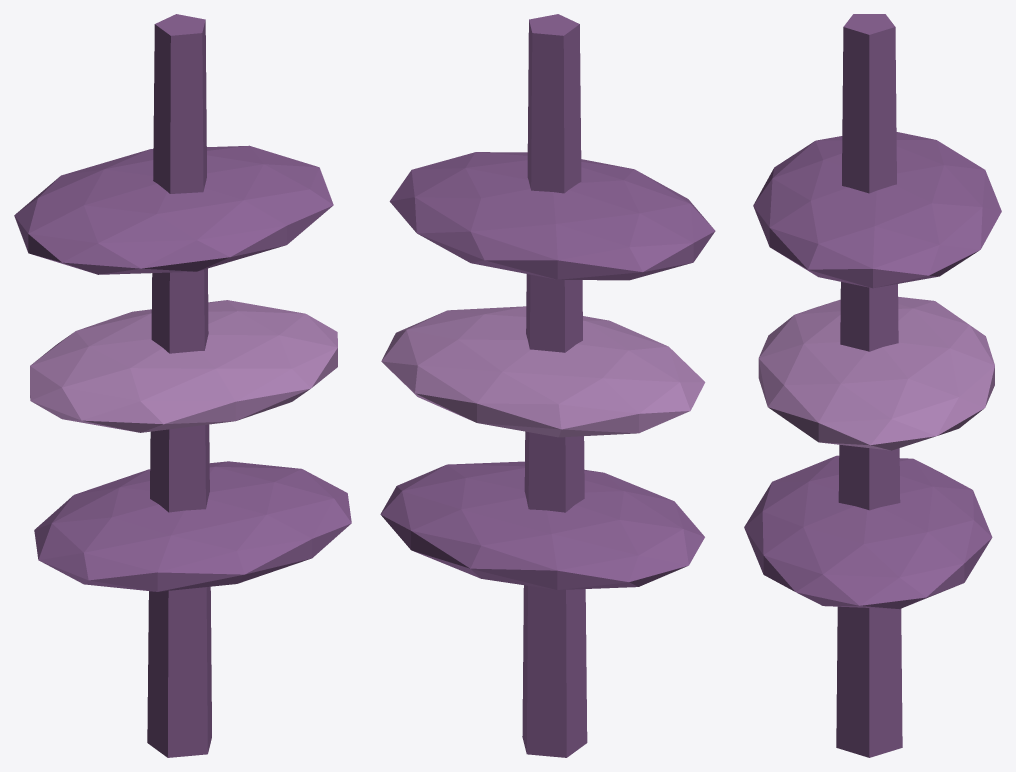
The model's file is tradescantia-pallida.glb.
The picture shows the model from 3 angles, left to right: view 1: azimuth 30°, elevation 25°; view 2: azimuth 150°, elevation 25°; view 3: azimuth 270°, elevation 25°; orthographic projection.
Parts seen in each view (by area): view 1: stem, leaf0, leaf2, leaf1; view 2: leaf2, leaf1, leaf0, stem; view 3: leaf2, stem, leaf0, leaf1.
Part boxes in pixels (box(x1,y1,x2,y2)): stem: box(147, 14, 211, 757); leaf0: box(34, 461, 351, 591); leaf2: box(14, 145, 333, 274); leaf1: box(30, 300, 337, 432); leaf2: box(389, 152, 715, 280); leaf1: box(381, 306, 705, 437); leaf0: box(380, 461, 704, 589); stem: box(522, 14, 587, 757); leaf2: box(753, 132, 1001, 288); stem: box(836, 14, 902, 757); leaf0: box(744, 455, 992, 609); leaf1: box(758, 297, 994, 450).
Size of the model in its own units: 0.1431 by 0.319 by 0.1036.
